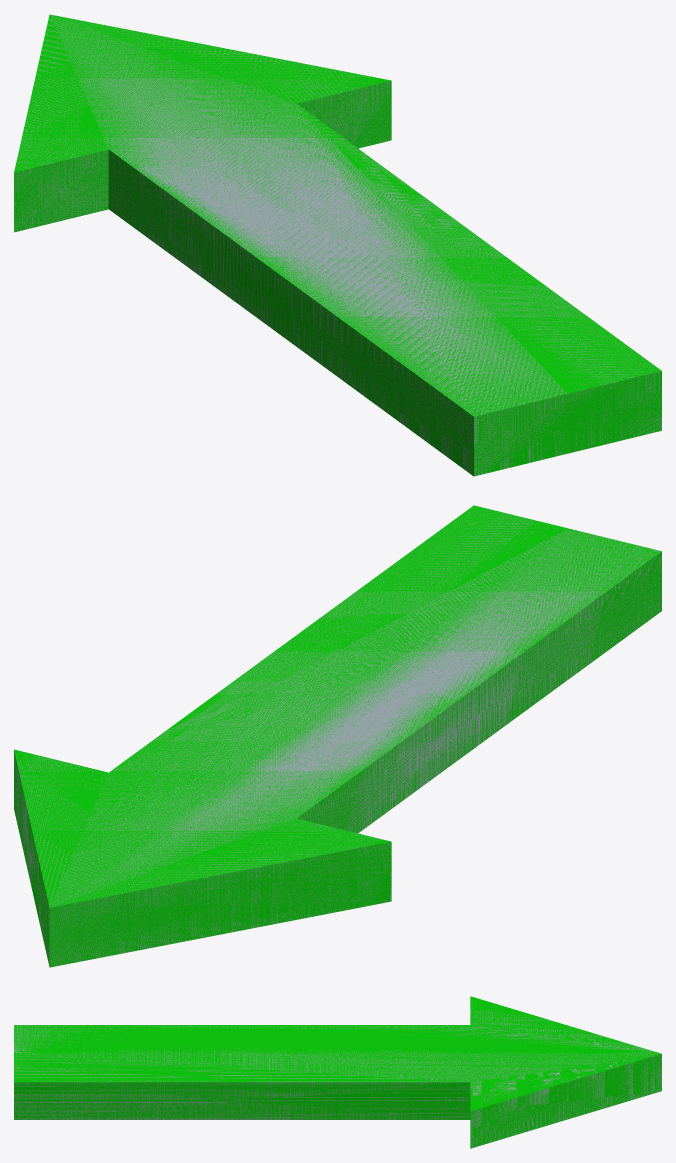
The model's file is green_arrow.obj.
3 renders of one model, top to bottom at view 1: azimuth 30°, elevation 25°; view 2: azimuth 150°, elevation 25°; view 3: azimuth 270°, elevation 25°, orthographic. The views are drawn at different scales.
Visible parts, largest first — view 1: Mesh1 Model; view 2: Mesh1 Model; view 3: Mesh1 Model.
Boxes of the visible parts, <box> form: Mesh1 Model: <box>14,14,661,476</box>; Mesh1 Model: <box>14,505,661,967</box>; Mesh1 Model: <box>14,996,661,1148</box>.
Size of the model in its own units: 0.3145 by 0.0476 by 0.7477.
